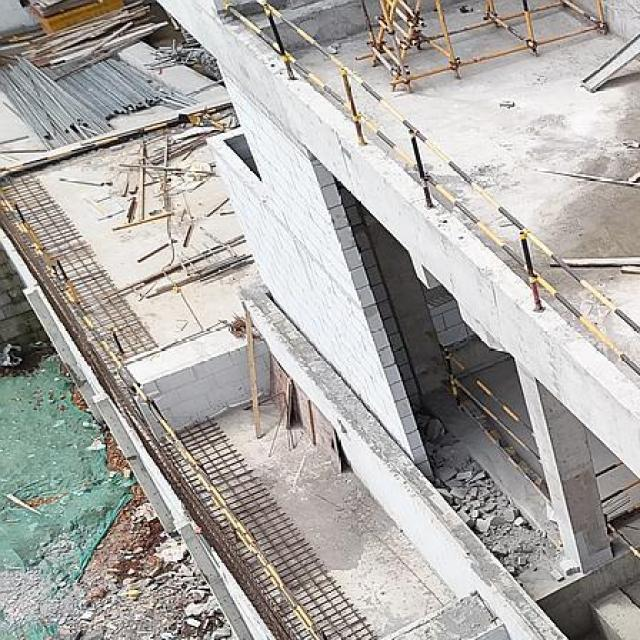edge_guardrail: (225, 0, 640, 375), (0, 190, 327, 640), (0, 102, 231, 173), (442, 346, 541, 461), (595, 461, 640, 504)
